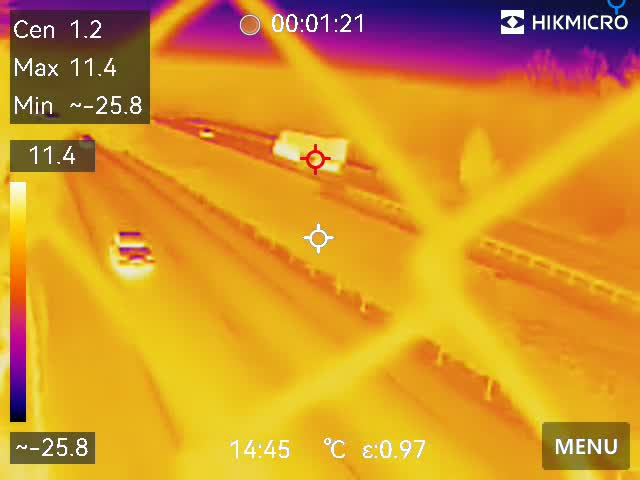heavyTruck: (271, 126, 357, 175)
vehicle: (108, 224, 156, 271), (76, 132, 96, 150), (198, 127, 214, 140)
